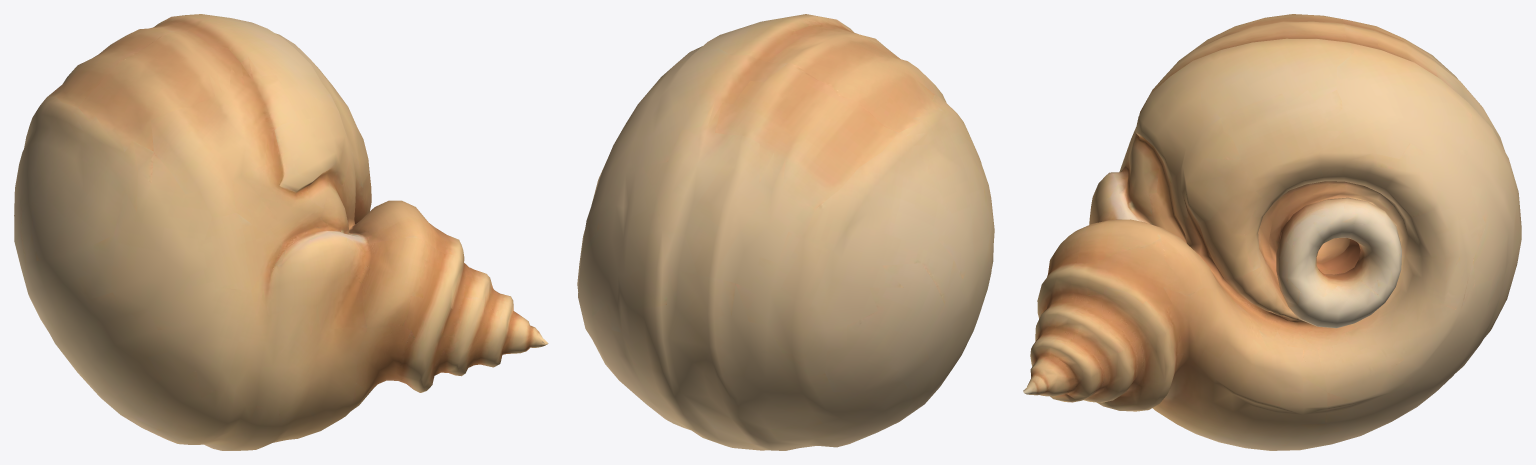
Rendered from ConchShell.glb.
3 views of the same model, side by side, from view 1: azimuth 30°, elevation 25°; view 2: azimuth 150°, elevation 25°; view 3: azimuth 270°, elevation 25° (orthographic). The views are drawn at different scales.
Size of the model in its own units: 0.8374 by 0.8267 by 0.9536.
1 material, 1 textured.
